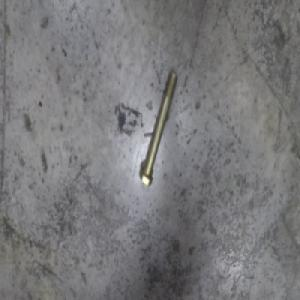Bolt: (138, 70, 180, 185)
